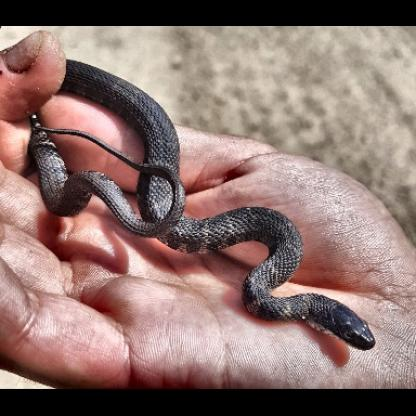Snake: (14, 61, 412, 366), (3, 69, 211, 267)
